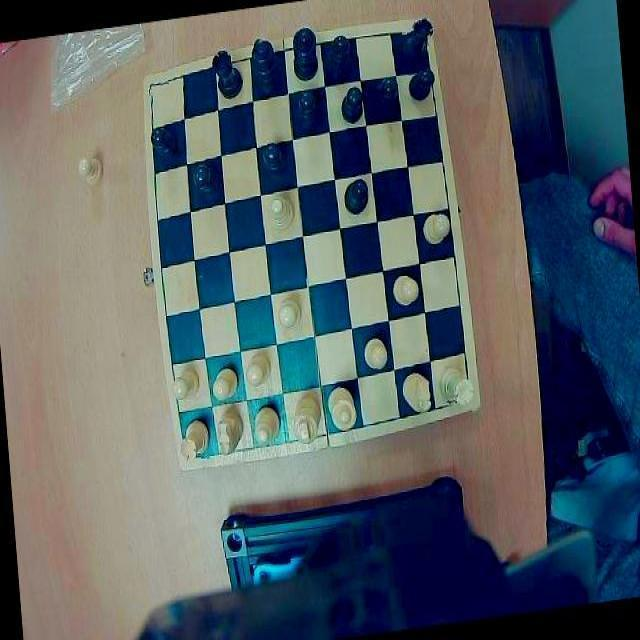chess-table-corners: (446, 378, 480, 413), (180, 438, 212, 471), (402, 20, 432, 54), (144, 68, 171, 99)
